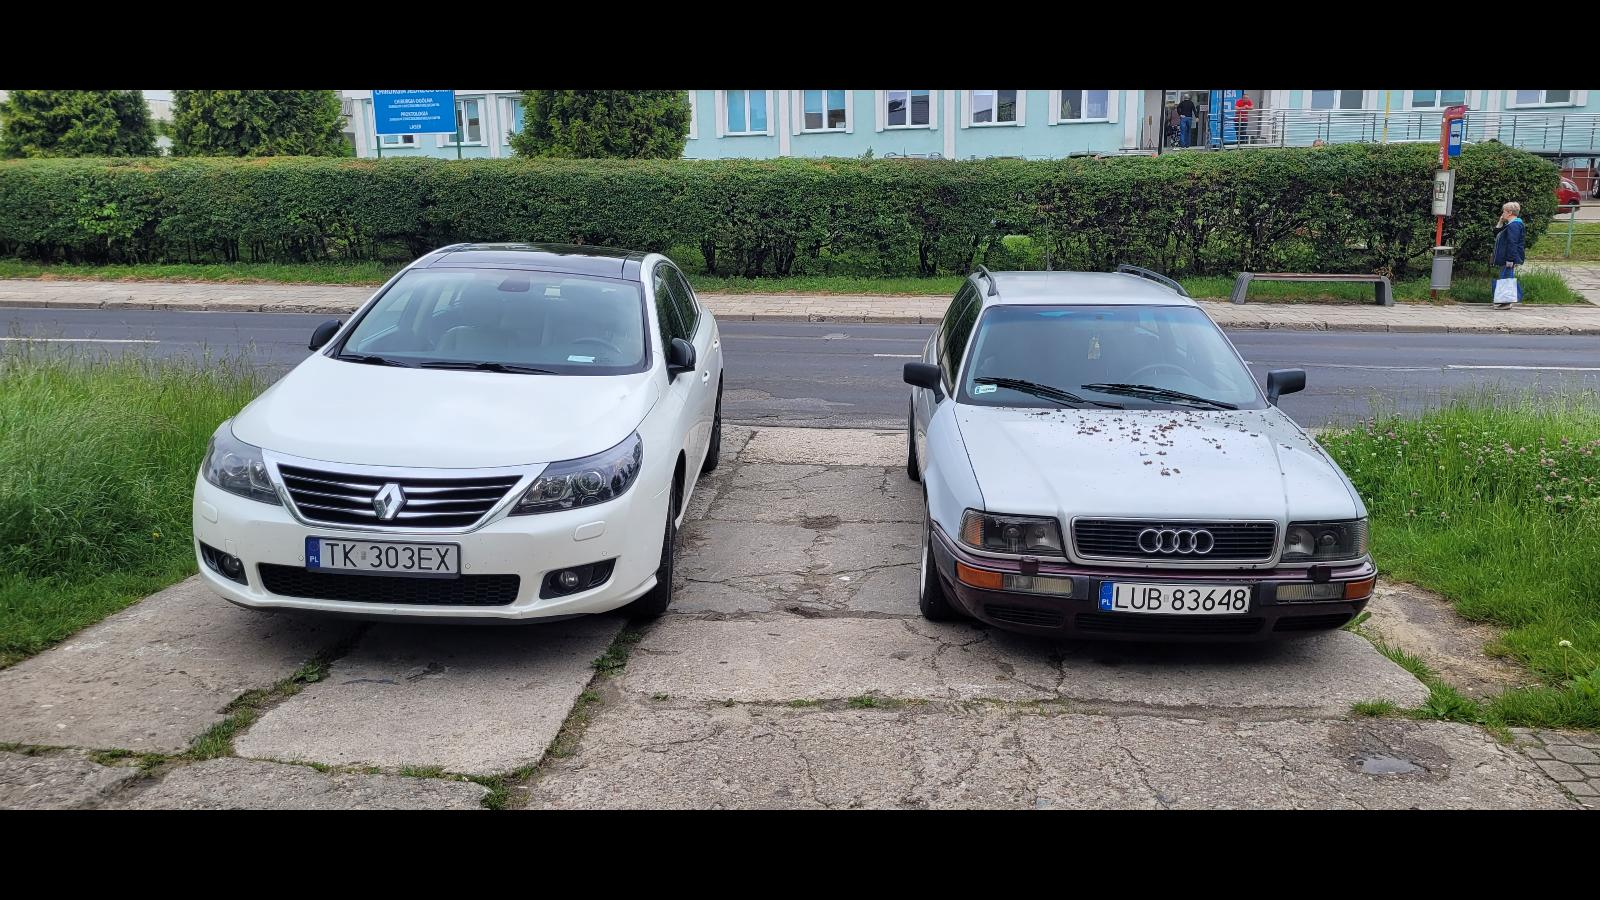plates: (305, 536, 461, 582), (1097, 580, 1253, 616)
